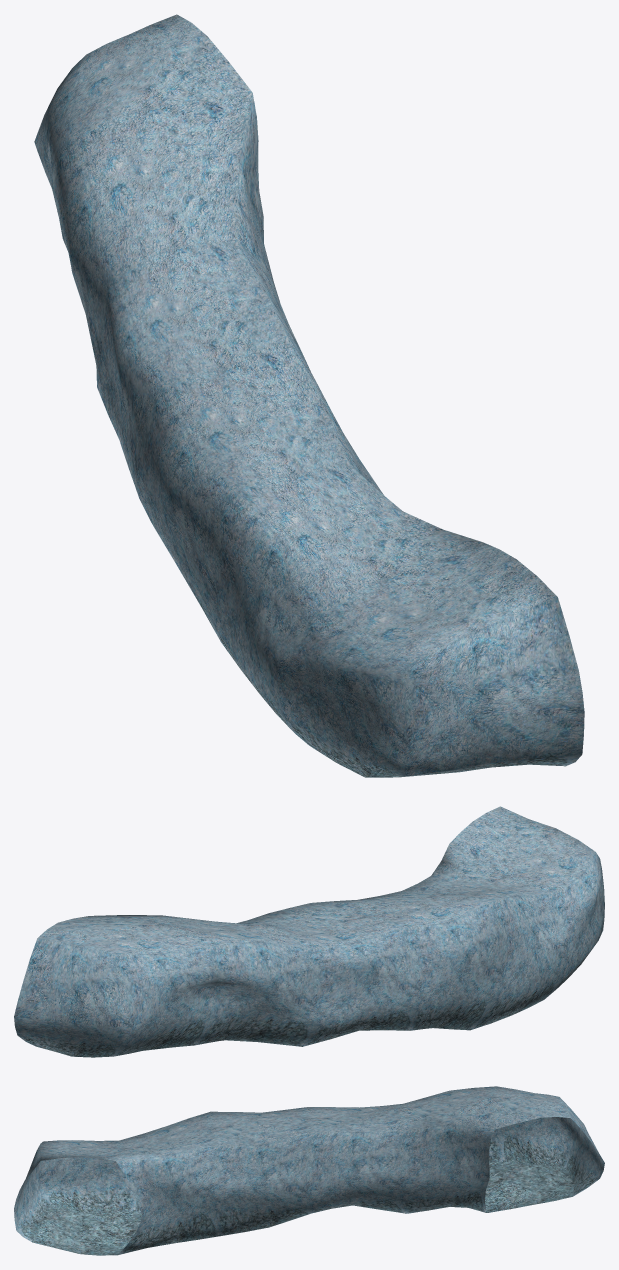
Rendered from thm_all_cave_s02_ice_r6_mesh_r6.fbx.
3 renders of one model, top to bottom at view 1: azimuth 30°, elevation 25°; view 2: azimuth 150°, elevation 25°; view 3: azimuth 270°, elevation 25°, orthographic. The views are drawn at different scales.
Visible parts, largest first — view 1: mesh_node; view 2: mesh_node; view 3: mesh_node.
Boxes of the visible parts, bbox=[...] form: mesh_node: bbox=[34, 14, 584, 777]; mesh_node: bbox=[14, 806, 604, 1057]; mesh_node: bbox=[14, 1086, 604, 1255].
Bounding box in the file's own units: 21.61 × 21.57 × 65.39.
